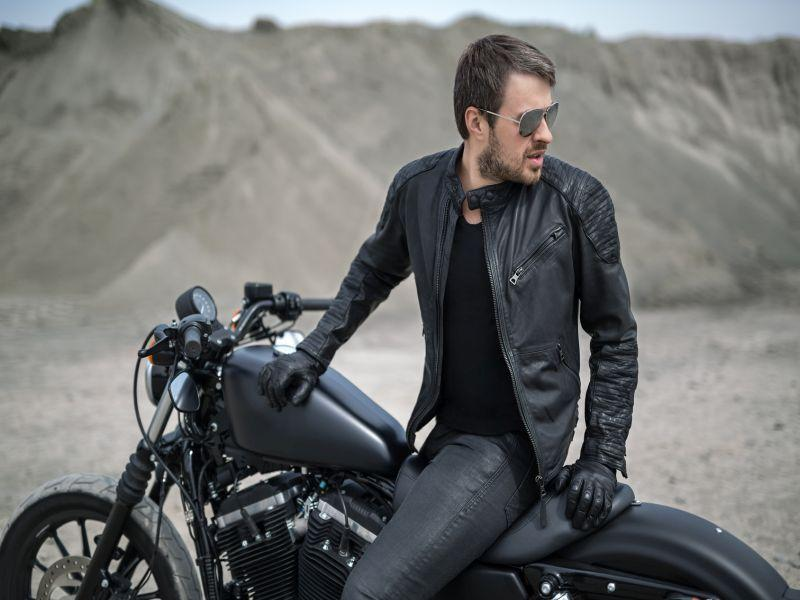nohelmet: (453, 34, 562, 188)
